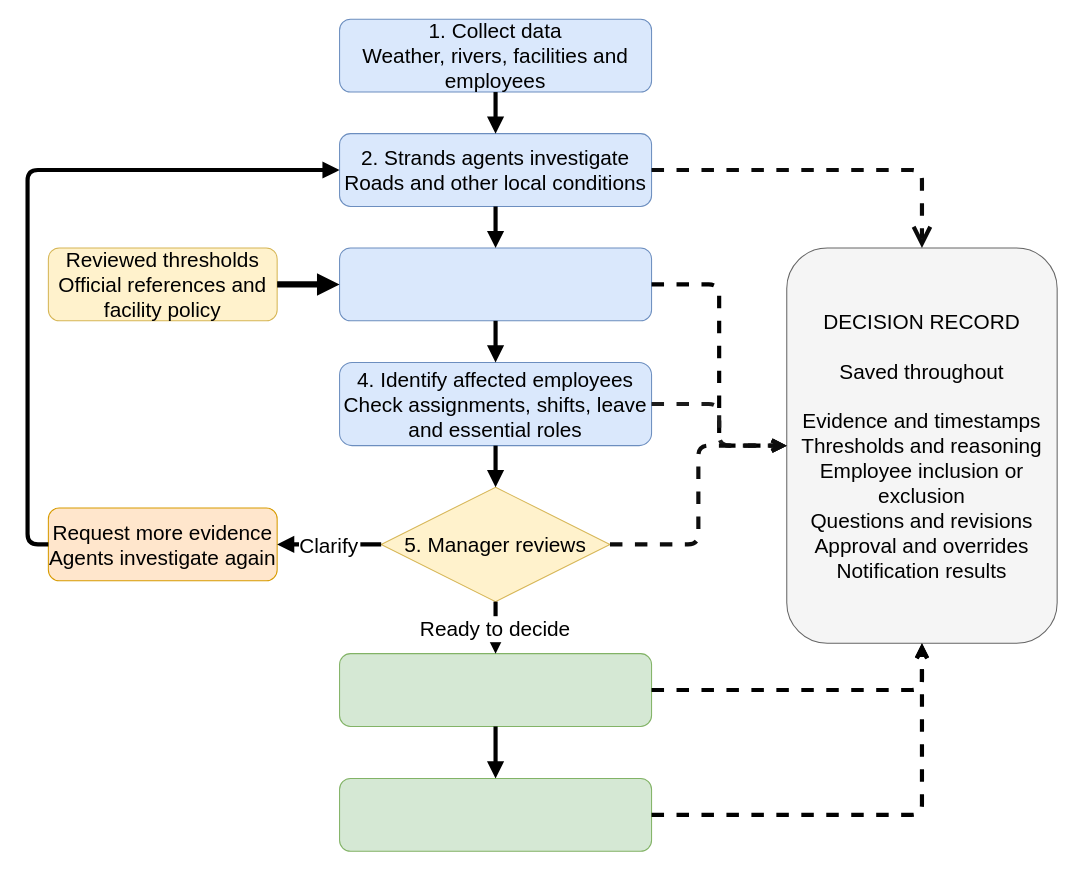
This 1075x869 diagram has some shape labels left out. Each missing label, with the centre of its shape:
3. Code applies thresholds Recommend operating status with reasons: the point at 495,284
6. Manager approves or overrides Record the reason: the point at 495,689
7. Recheck recipients and send Personalized notifications: the point at 495,814
